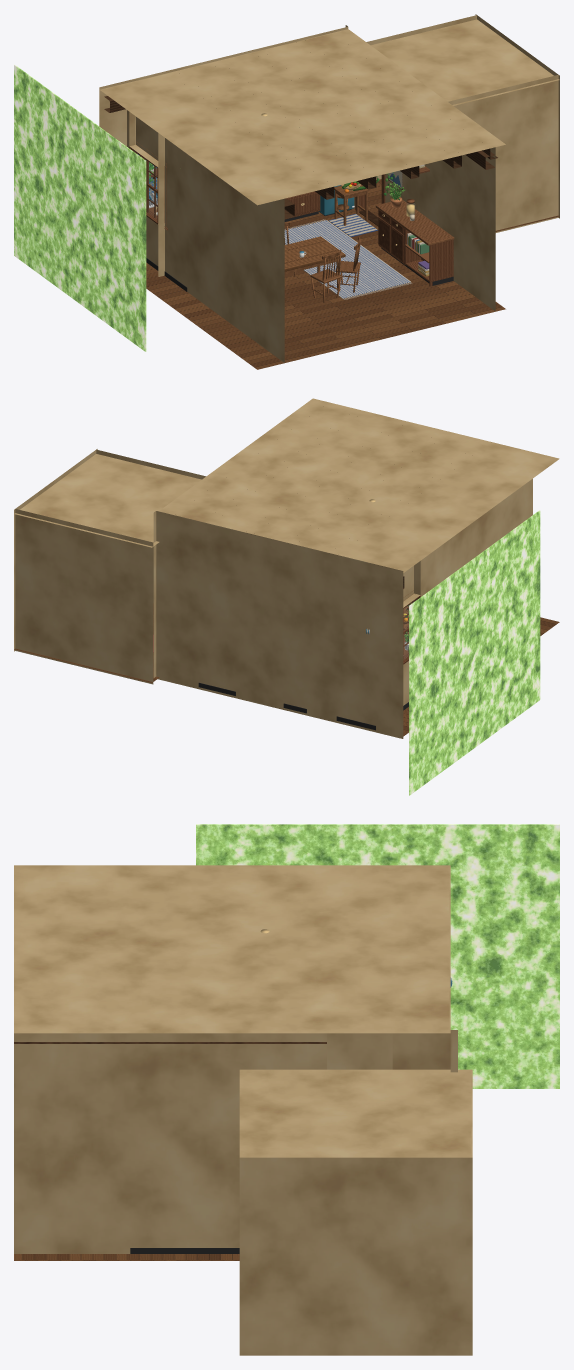
The model's file is kitchen_room.glb.
The picture shows the model from 3 angles, top to bottom: view 1: azimuth 30°, elevation 25°; view 2: azimuth 150°, elevation 25°; view 3: azimuth 270°, elevation 25°; orthographic projection. The views are drawn at different scales.
Parts seen in each view (by area): view 1: ENV_Plaster_Wall, ENV_Outdoor_Foliage, ENV_Floor_Planks, ENV_Wood_Cabinet, ENV_Rug_Woven, ENV_Wood_Beam, ENV_Wood_TableTop, ENV_Wood_Counter, Chair_NearLeft, ENV_Wood_Table, ENV_Rug_Small, Chair_Right (+1 smaller); view 2: ENV_Plaster_Wall, ENV_Outdoor_Foliage, ENV_Floor_Planks, ENV_Black_Plastic; view 3: ENV_Plaster_Wall, ENV_Outdoor_Foliage, ENV_Floor_Planks, ENV_Black_Plastic.
Boxes of the visible parts, box(x1,y1,x2,y2) form: ENV_Plaster_Wall: box(99, 14, 559, 362); ENV_Outdoor_Foliage: box(14, 65, 146, 351); ENV_Floor_Planks: box(146, 179, 559, 369); ENV_Wood_Cabinet: box(129, 141, 453, 286); ENV_Rug_Woven: box(284, 220, 410, 298); ENV_Wood_Beam: box(104, 96, 497, 262); ENV_Wood_TableTop: box(284, 236, 345, 290); ENV_Wood_Counter: box(149, 199, 454, 245); Chair_NearLeft: box(310, 250, 341, 302); ENV_Wood_Table: box(334, 184, 369, 225); ENV_Rug_Small: box(328, 214, 378, 236); Chair_Right: box(335, 236, 361, 292); ENV_Plaster_Wall: box(14, 398, 559, 738); ENV_Outdoor_Foliage: box(409, 510, 540, 795); ENV_Floor_Planks: box(14, 603, 559, 736); ENV_Black_Plastic: box(198, 682, 408, 730); ENV_Plaster_Wall: box(14, 865, 472, 1355); ENV_Outdoor_Foliage: box(196, 824, 559, 1088); ENV_Floor_Planks: box(14, 1254, 239, 1260); ENV_Black_Plastic: box(130, 1248, 239, 1253).
Size of the model in its own units: 9.44 by 4 by 7.5.
81 materials, 16 textured.
